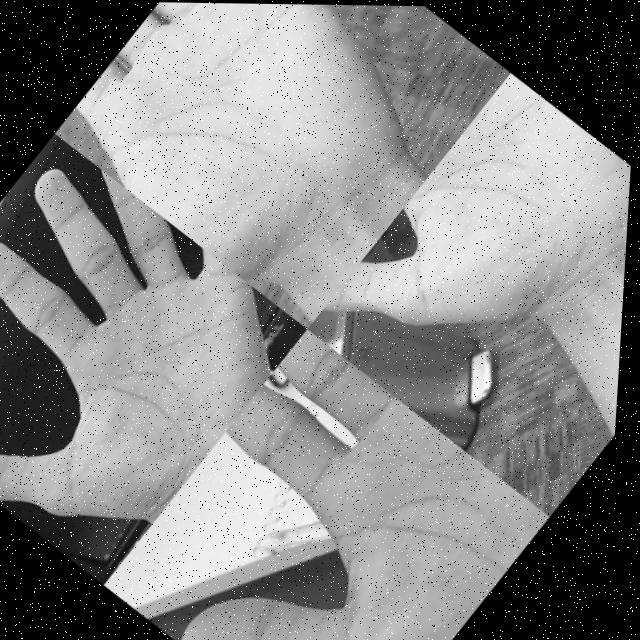no-gloves: (107, 326, 564, 640), (0, 137, 319, 586), (46, 1, 487, 320), (302, 68, 637, 470)
